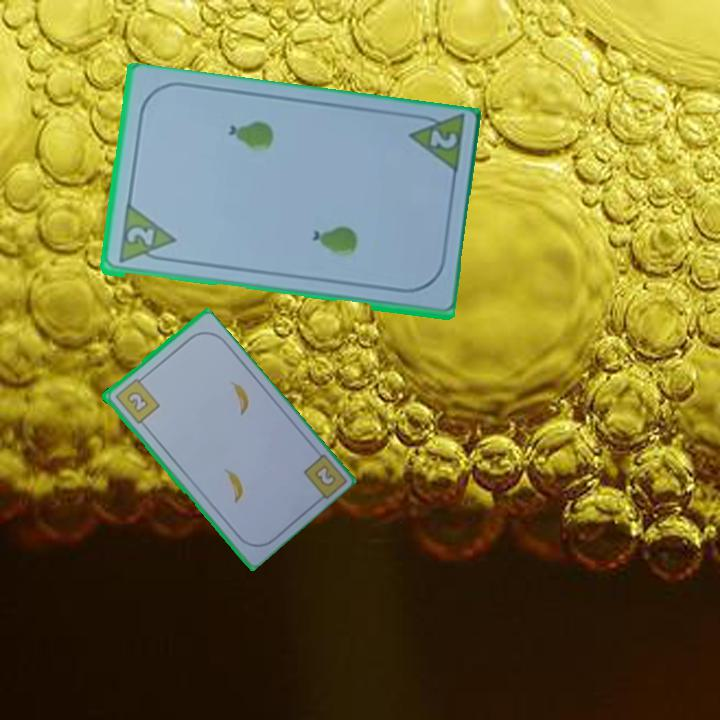2b: (111, 372, 162, 426), (313, 464, 337, 487)
2p: (123, 224, 157, 250), (426, 127, 460, 152)
